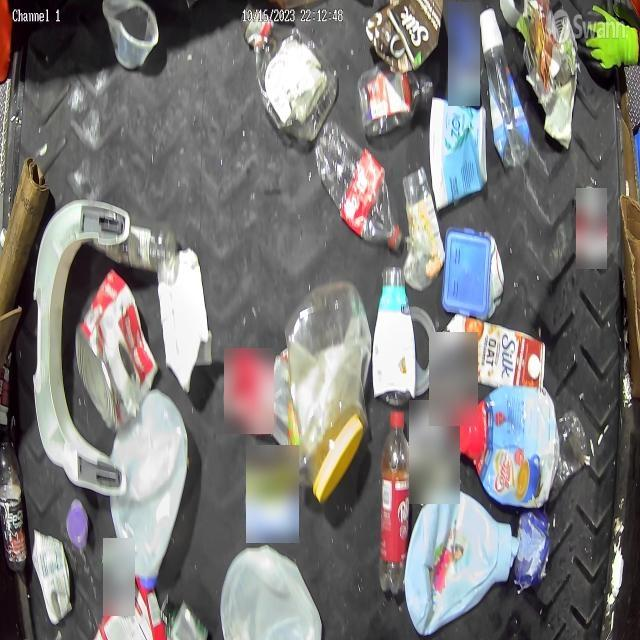milk_jug: (110, 389, 188, 594), (223, 545, 324, 640)
non_white_jug: (405, 492, 517, 632), (460, 386, 560, 508)
plastic_bottle: (314, 120, 405, 252), (378, 409, 411, 594), (358, 64, 436, 139), (102, 220, 178, 273), (0, 429, 28, 572)
